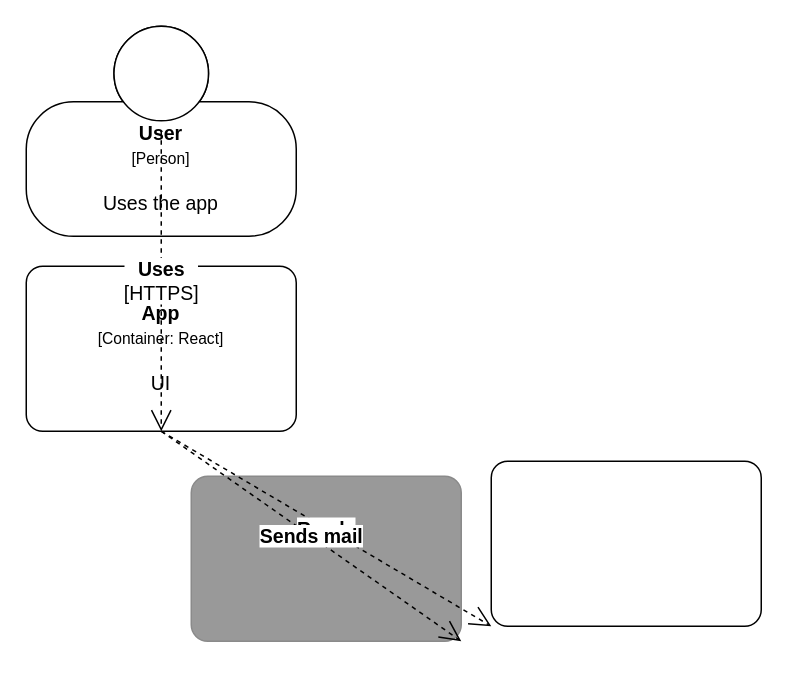
Image size: 788x689. Some labels were removed from this diagram. The shapes that lost their labels are listed below. From the top down, each one's centre as x and y in pixels, then its label:
the point at 325,558: Mailer [Software System]
the point at 625,543: DB [Container: Postgres]
